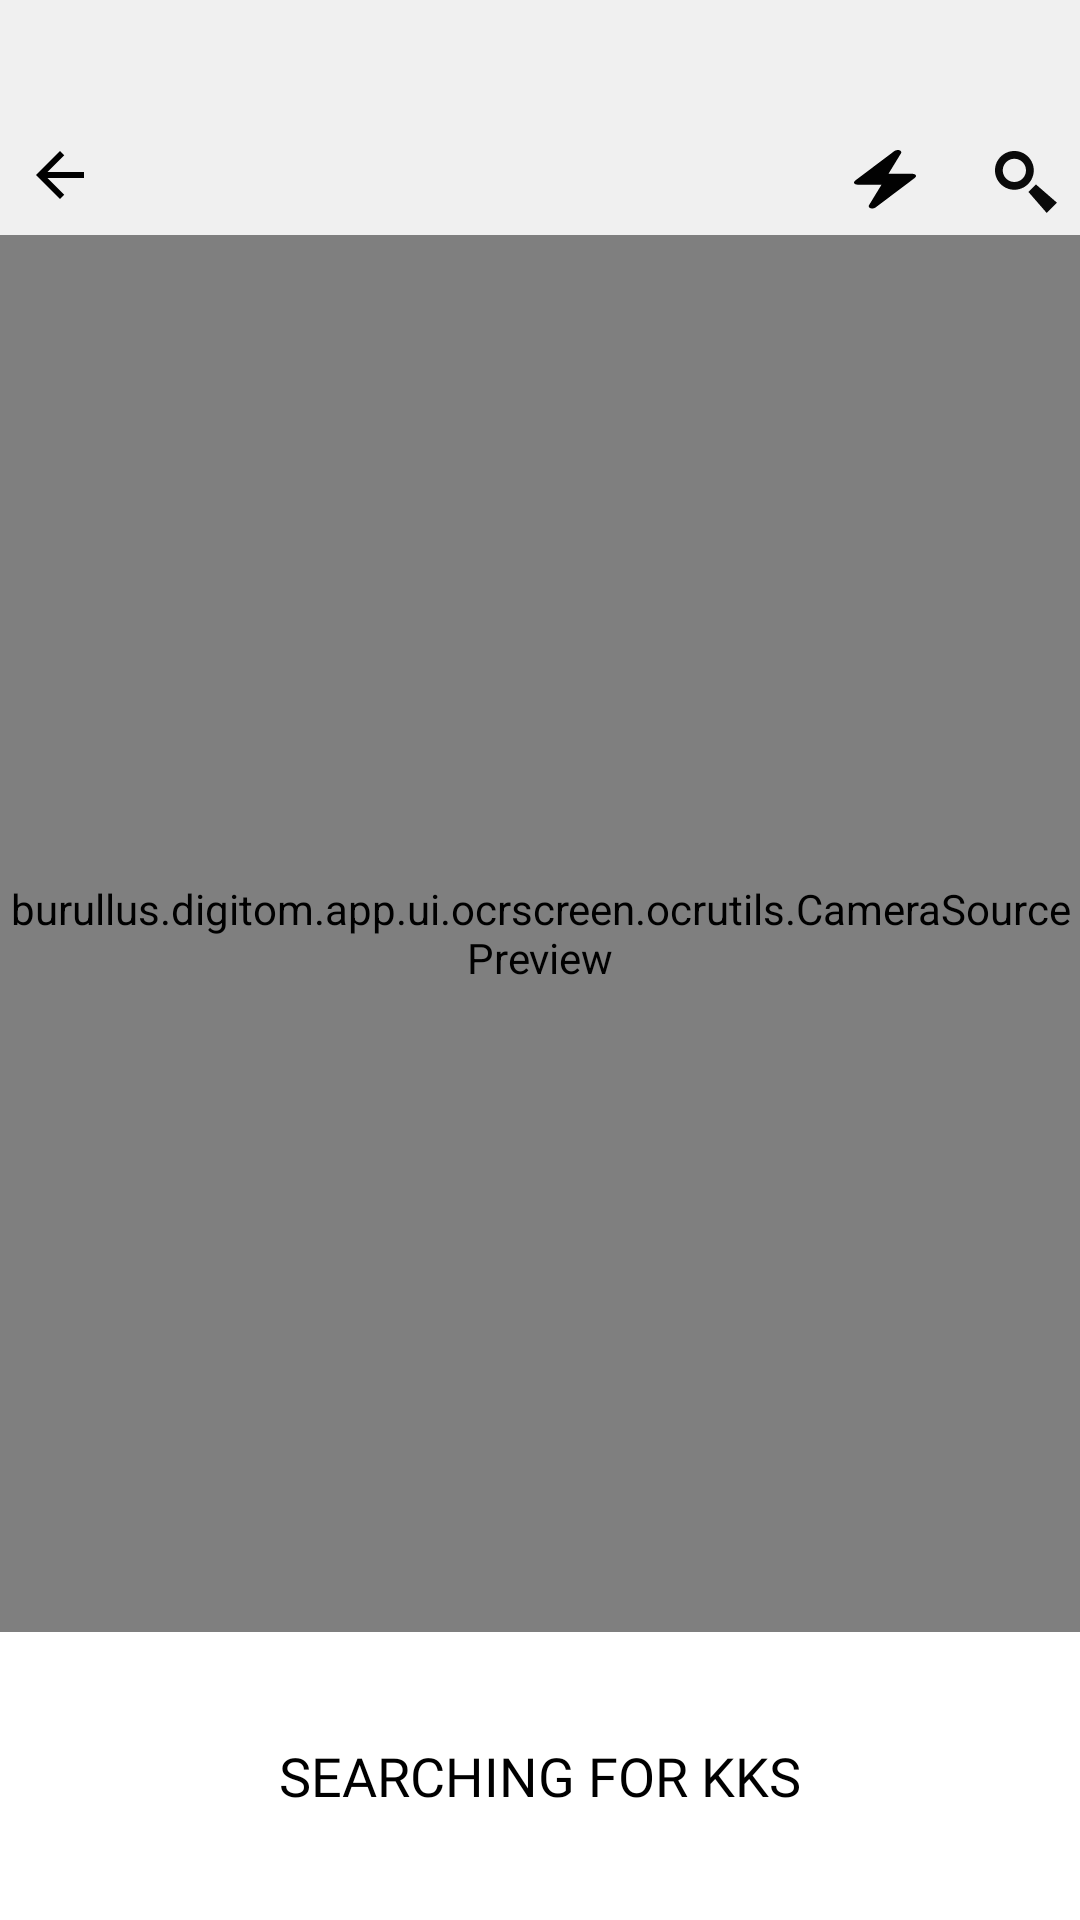

Point at icon controls on the screen. Image size 1080×1920, points as (x=x, y=y).
back: (x=60, y=175)
flash: (x=885, y=179)
search: (x=1026, y=182)
